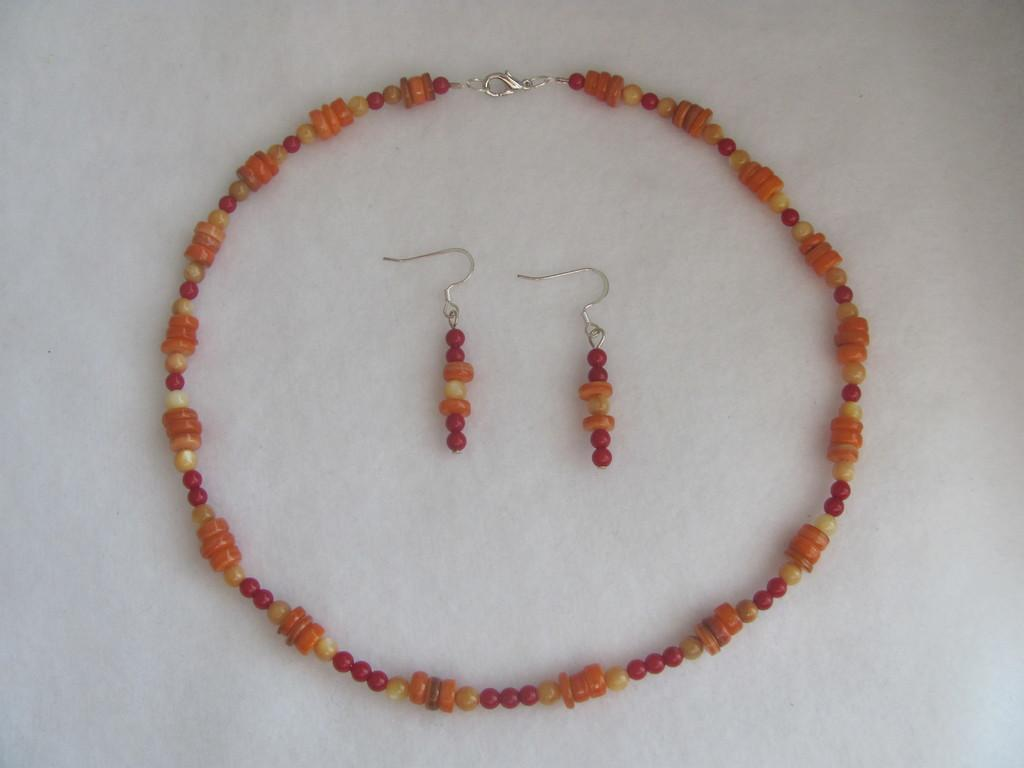earrings: (381, 239, 475, 455), (517, 265, 615, 471)
